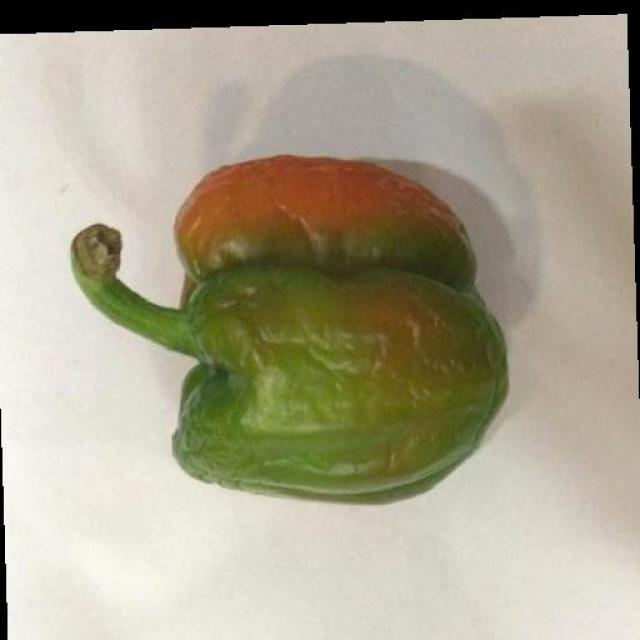Stale_Capsicum: (68, 161, 507, 503)
